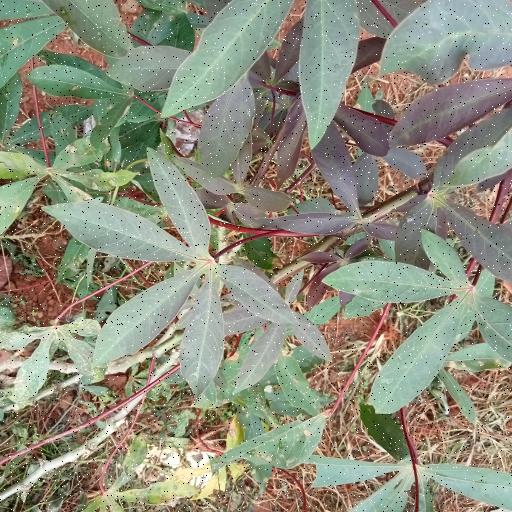Cassava_Healthy: (70, 149, 291, 390), (327, 227, 512, 411)
